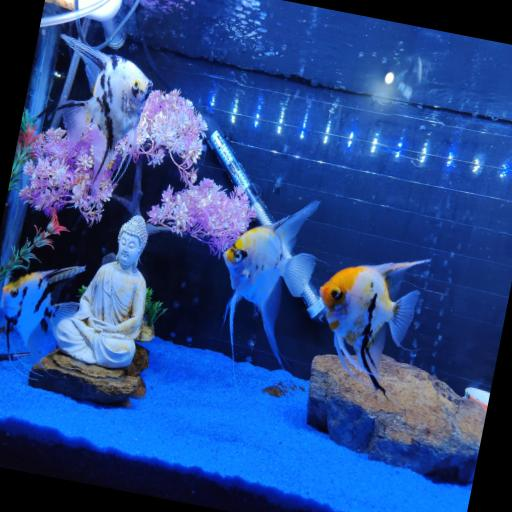Fish: (223, 201, 318, 368), (56, 35, 151, 194), (319, 260, 429, 394), (1, 267, 84, 356)
